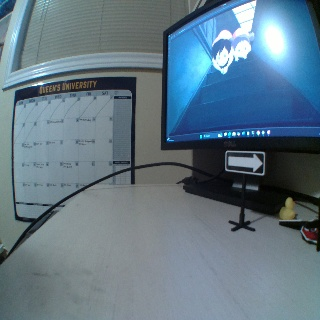sign_oneway_right: (224, 151, 264, 175)
